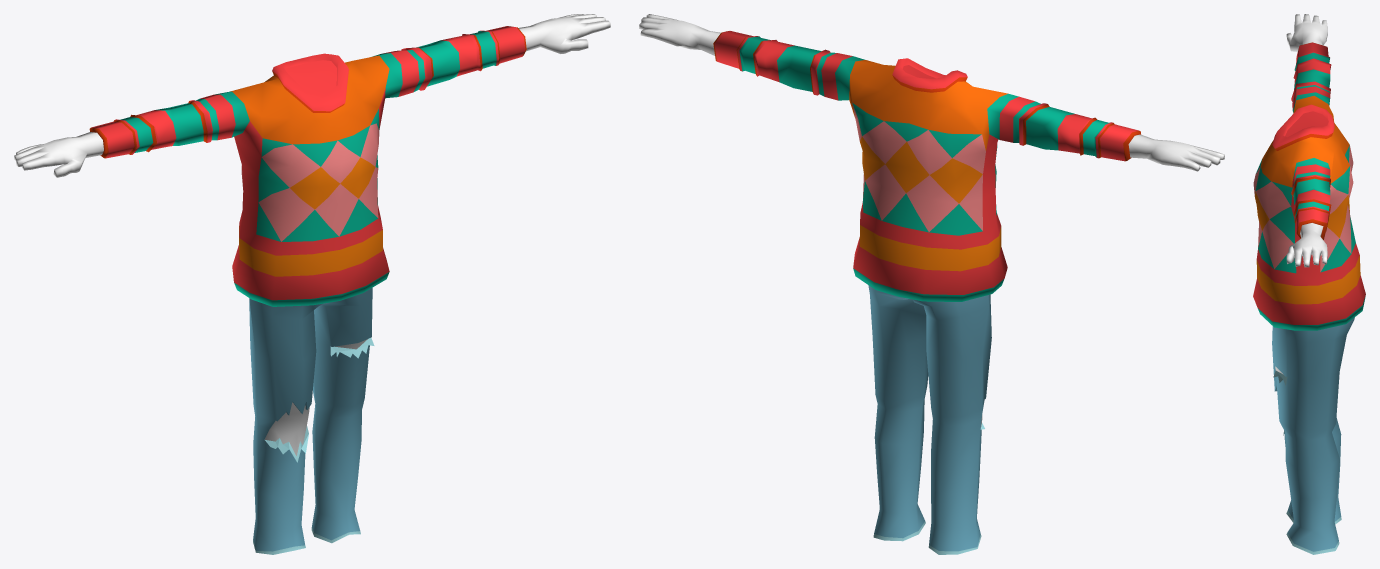
Rendered from suit.glb.
The picture shows the model from 3 angles, left to right: view 1: azimuth 30°, elevation 25°; view 2: azimuth 150°, elevation 25°; view 3: azimuth 270°, elevation 25°; orthographic projection. The views are drawn at different scales.
Visible parts, largest first — view 1: Export: M_uBody_Sweater_02, Export: M_lBody_TrashJeans_01; view 2: Export: M_uBody_Sweater_02, Export: M_lBody_TrashJeans_01; view 3: Export: M_uBody_Sweater_02, Export: M_lBody_TrashJeans_01.
Boxes of the visible parts, x1,y1,x2,y2 form: Export: M_uBody_Sweater_02: (14, 14, 610, 306); Export: M_lBody_TrashJeans_01: (249, 287, 374, 554); Export: M_uBody_Sweater_02: (639, 14, 1224, 301); Export: M_lBody_TrashJeans_01: (868, 285, 991, 554); Export: M_uBody_Sweater_02: (1253, 14, 1365, 330); Export: M_lBody_TrashJeans_01: (1272, 317, 1354, 554).
Bounding box in the file's own units: 1.83 × 1.44 × 0.3514.
4 materials, 4 textured.
